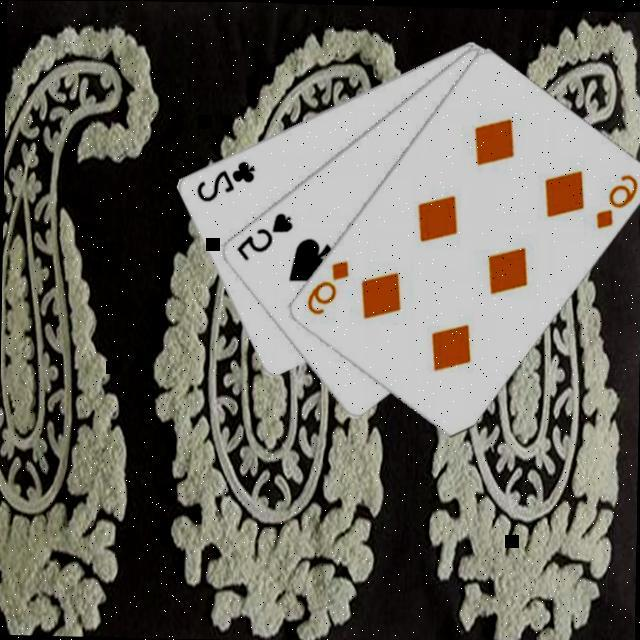2C: (190, 157, 256, 206)
5S: (230, 208, 293, 264)
6D: (588, 169, 639, 232), (300, 255, 349, 318)
